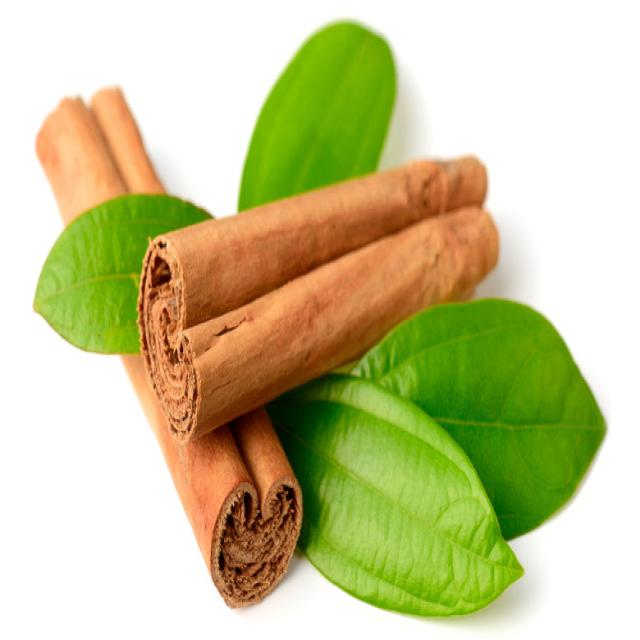Cinnamon: (138, 156, 486, 436), (161, 207, 499, 442), (124, 354, 296, 604), (36, 89, 164, 224)
